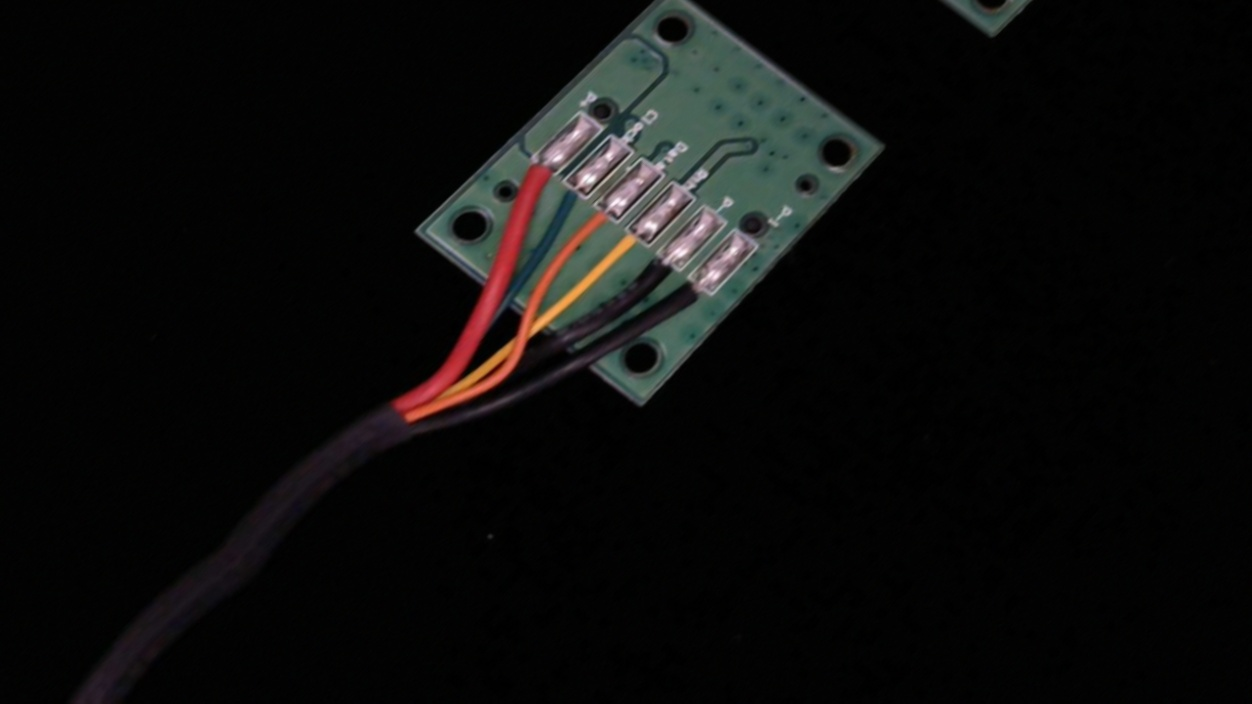Black: (610, 240, 693, 313)
Black1: (643, 266, 726, 340)
Green: (524, 169, 604, 237)
Orange: (546, 192, 632, 268)
Red: (483, 144, 570, 218)
Yellow: (583, 216, 663, 286)
